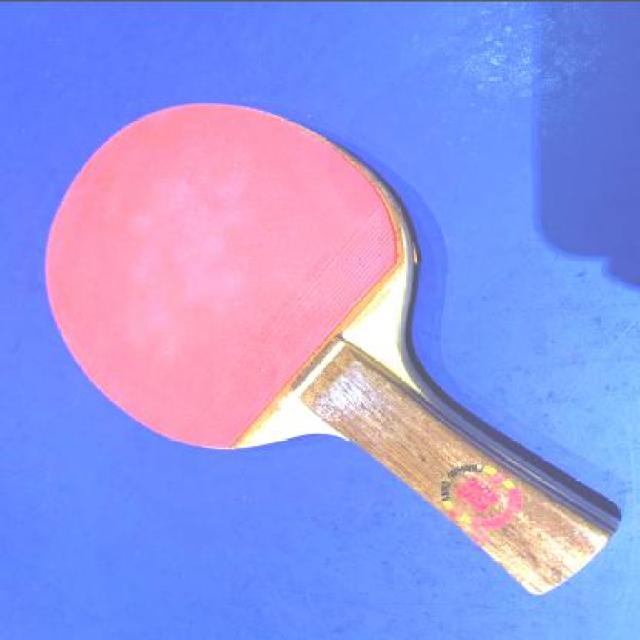table_tennis_racket: (39, 92, 427, 456)
